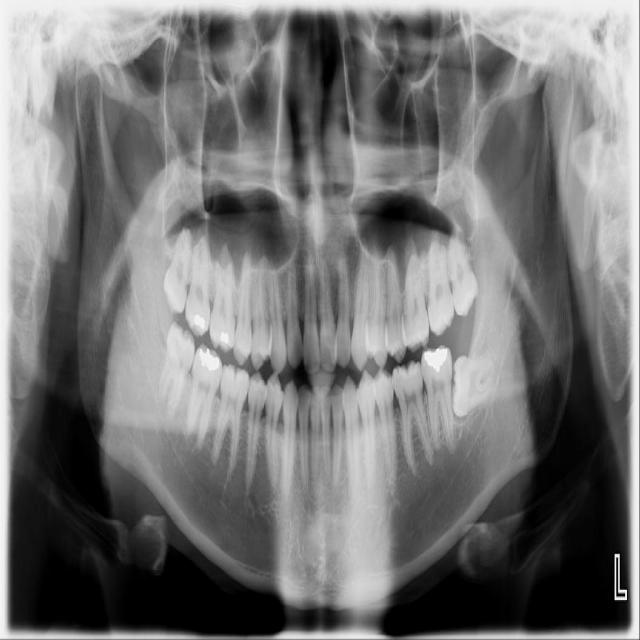Filling: (424, 347, 447, 374), (199, 348, 220, 372), (194, 314, 205, 329), (220, 332, 229, 345)
impacted tooth: (158, 322, 195, 426), (444, 231, 479, 313), (454, 357, 495, 416), (166, 231, 188, 311)
